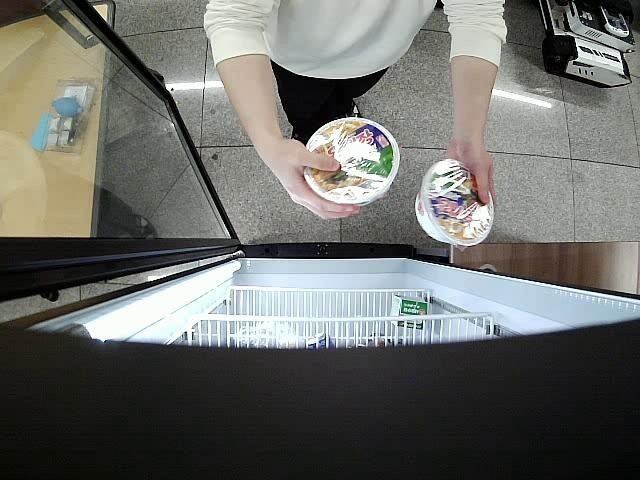09_yukGaeJang: (304, 118, 402, 204), (414, 160, 494, 247)
